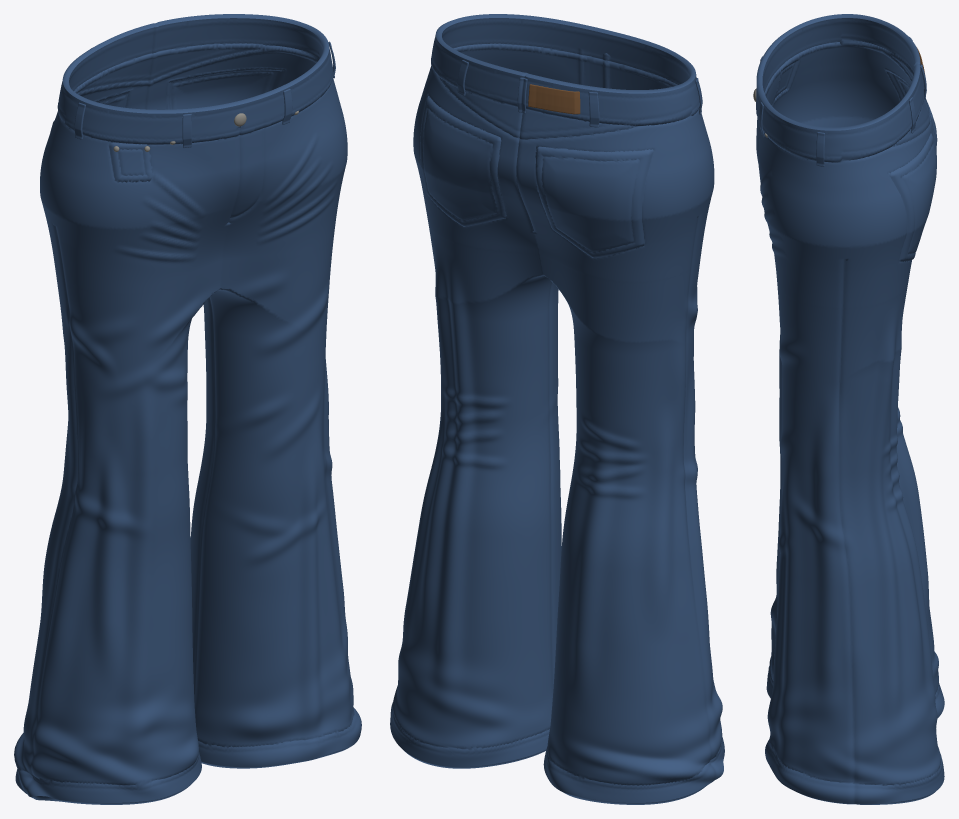
Rendered from 25_vaquero_flare.glb.
The picture shows the model from 3 angles, left to right: view 1: azimuth 30°, elevation 25°; view 2: azimuth 150°, elevation 25°; view 3: azimuth 270°, elevation 25°; orthographic projection. The views are drawn at different scales.
Visible parts, largest first — view 1: body; view 2: body, trim; view 3: body.
Boxes of the visible parts, left/top/right/bottom form: body: left=14, top=14, right=361, bottom=804; body: left=390, top=14, right=724, bottom=804; trim: left=528, top=84, right=580, bottom=114; body: left=756, top=14, right=944, bottom=804.
Size of the model in its own units: 0.4743 by 1.01 by 0.2568.
